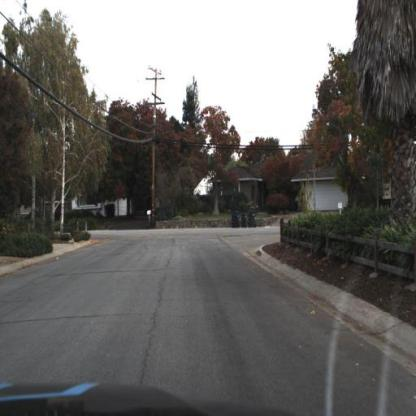truck: (376, 163, 400, 215)
